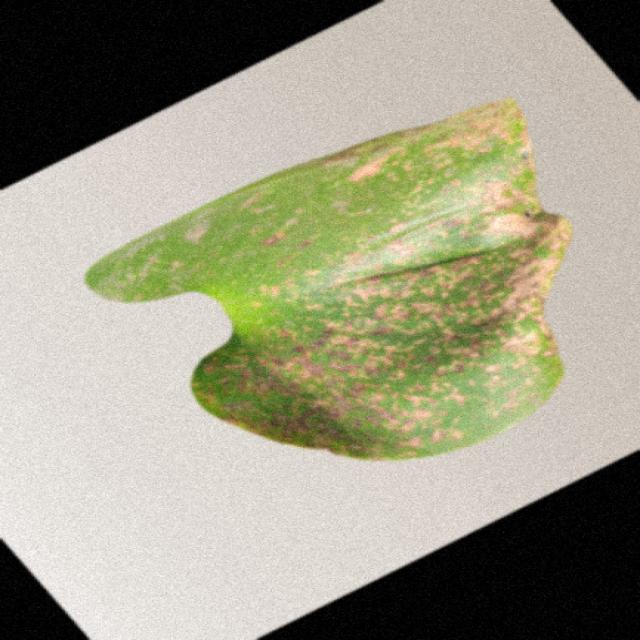daun berpenyakit bercak: (85, 100, 571, 459)
